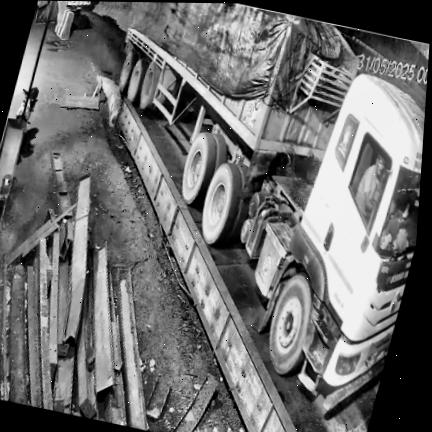tyre: (269, 274, 312, 375), (202, 163, 242, 244), (182, 133, 216, 204), (229, 165, 251, 242), (140, 61, 161, 109), (118, 49, 138, 95), (128, 58, 148, 104), (213, 134, 228, 173)
